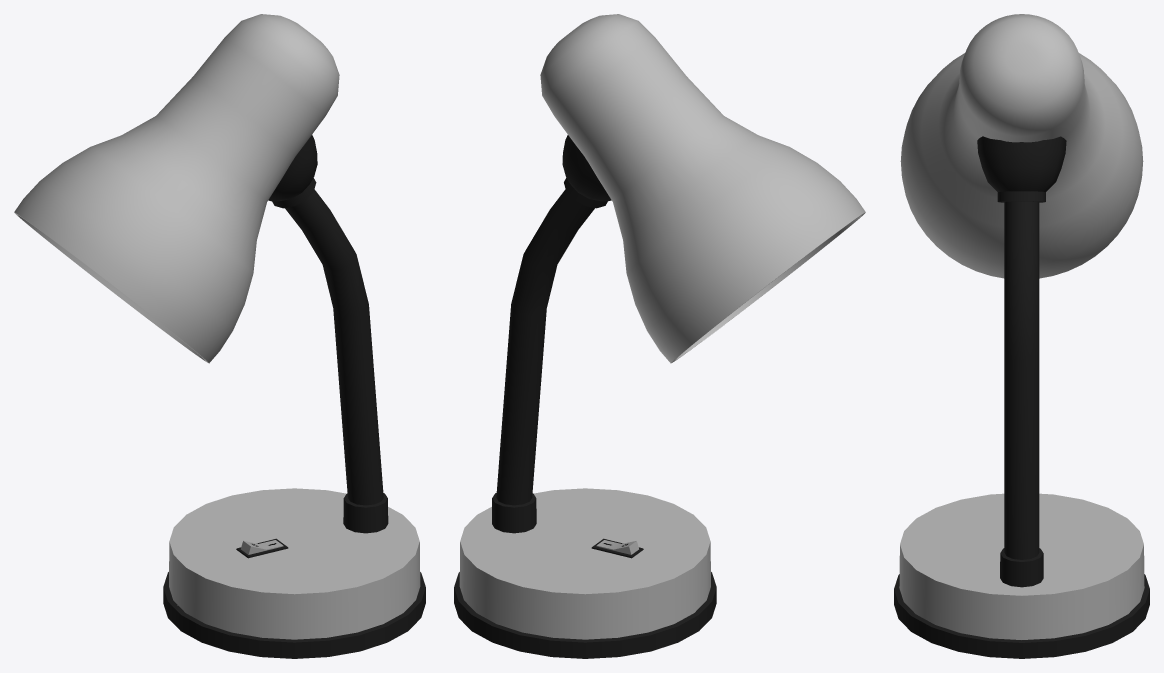
Rendered from office_lamp.glb.
The picture shows the model from 3 angles, left to right: view 1: azimuth 30°, elevation 25°; view 2: azimuth 150°, elevation 25°; view 3: azimuth 270°, elevation 25°; orthographic projection. The views are drawn at different scales.
Parts seen in each view (by area): view 1: SM_Lamp; view 2: SM_Lamp; view 3: SM_Lamp.
Boxes of the visible parts, <box> form: SM_Lamp: <box>14,14,425,658</box>; SM_Lamp: <box>454,14,865,658</box>; SM_Lamp: <box>894,14,1149,658</box>.
Bounding box in the file's own units: 1.32 × 2 × 0.8057.
2 materials, 2 textured.
